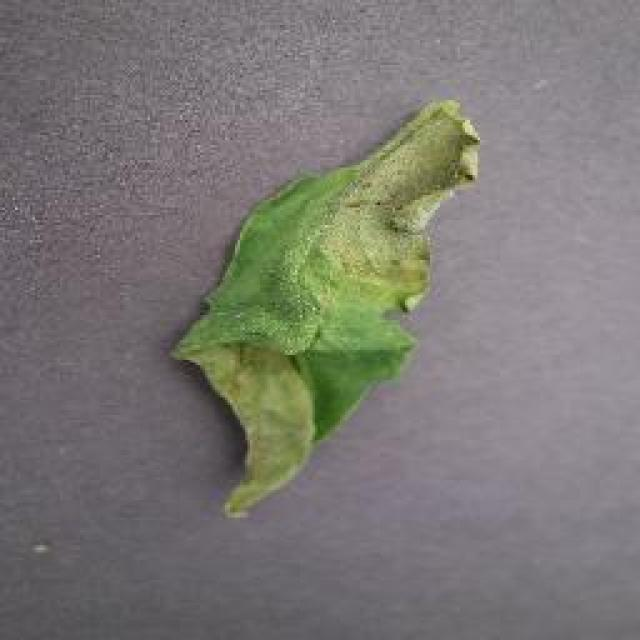Tomato_Late_Blight: (312, 86, 504, 307), (165, 329, 330, 529)
